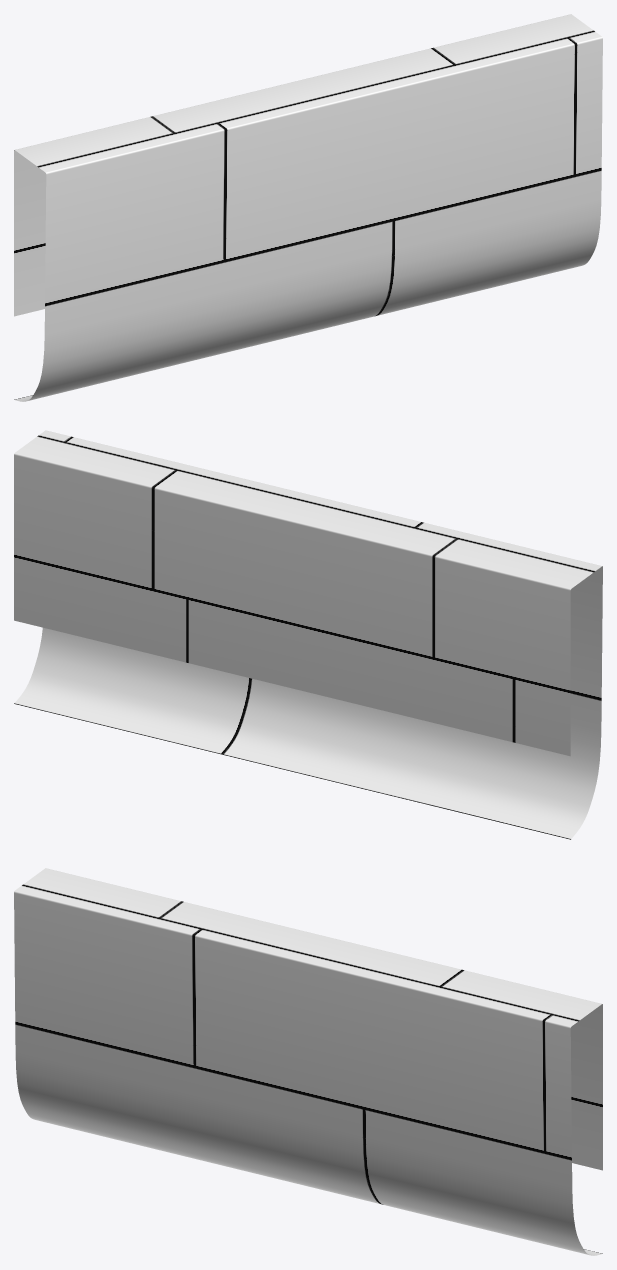
Rendered from Parapet01_350cm.FBX.
The picture shows the model from 3 angles, top to bottom: view 1: azimuth 30°, elevation 25°; view 2: azimuth 150°, elevation 25°; view 3: azimuth 330°, elevation 25°; orthographic projection.
Visible parts, largest first — view 1: Parapet01_350cm; view 2: Parapet01_350cm; view 3: Parapet01_350cm.
Part boxes in pixels (left/top/right/bottom): Parapet01_350cm: left=14, top=14, right=602, bottom=401; Parapet01_350cm: left=14, top=430, right=602, bottom=839; Parapet01_350cm: left=14, top=868, right=602, bottom=1255.
Bounding box in the file's own units: 350 × 150 × 35.13.
